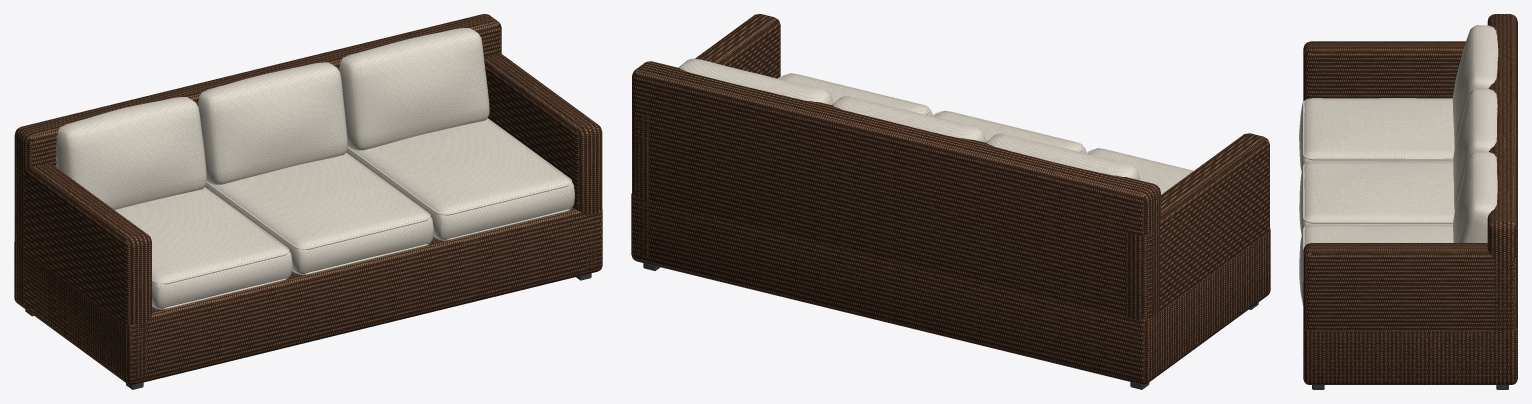
The model's file is sofa_ratan_3p.glb.
The picture shows the model from 3 angles, left to right: view 1: azimuth 30°, elevation 25°; view 2: azimuth 150°, elevation 25°; view 3: azimuth 270°, elevation 25°; orthographic projection. The views are drawn at different scales.
Parts seen in each view (by area): view 1: sofa_ratan_3p; view 2: sofa_ratan_3p; view 3: sofa_ratan_3p.
Part boxes in pixels (x1=…): sofa_ratan_3p: x1=14, y1=14, x2=602, y2=389; sofa_ratan_3p: x1=631, y1=14, x2=1270, y2=389; sofa_ratan_3p: x1=1299, y1=14, x2=1517, y2=389.
Bounding box in the file's own units: 2 × 0.7633 × 0.8663.
3 materials, 2 textured.
